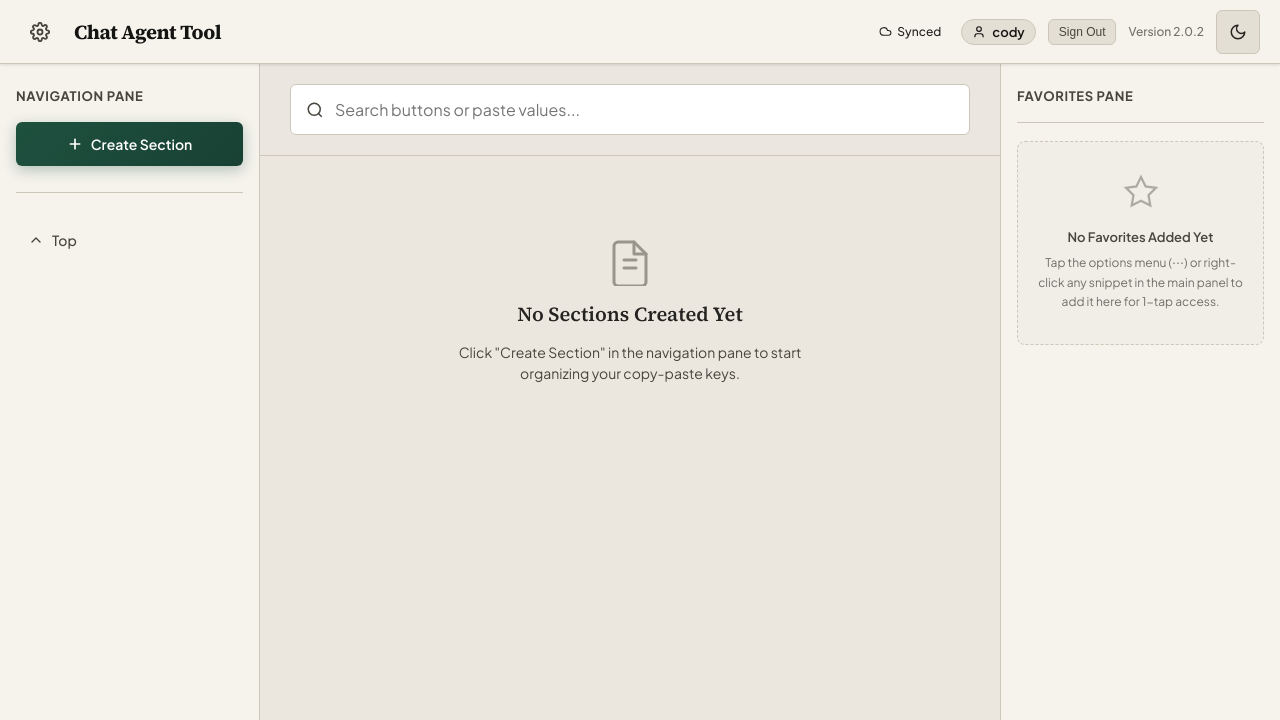
Chat Agent Tool - Integration Tests › copies text and shows toast notification on button click
// Create section
Click the button "Create Section" at (130, 144), box [16,122,243,166]
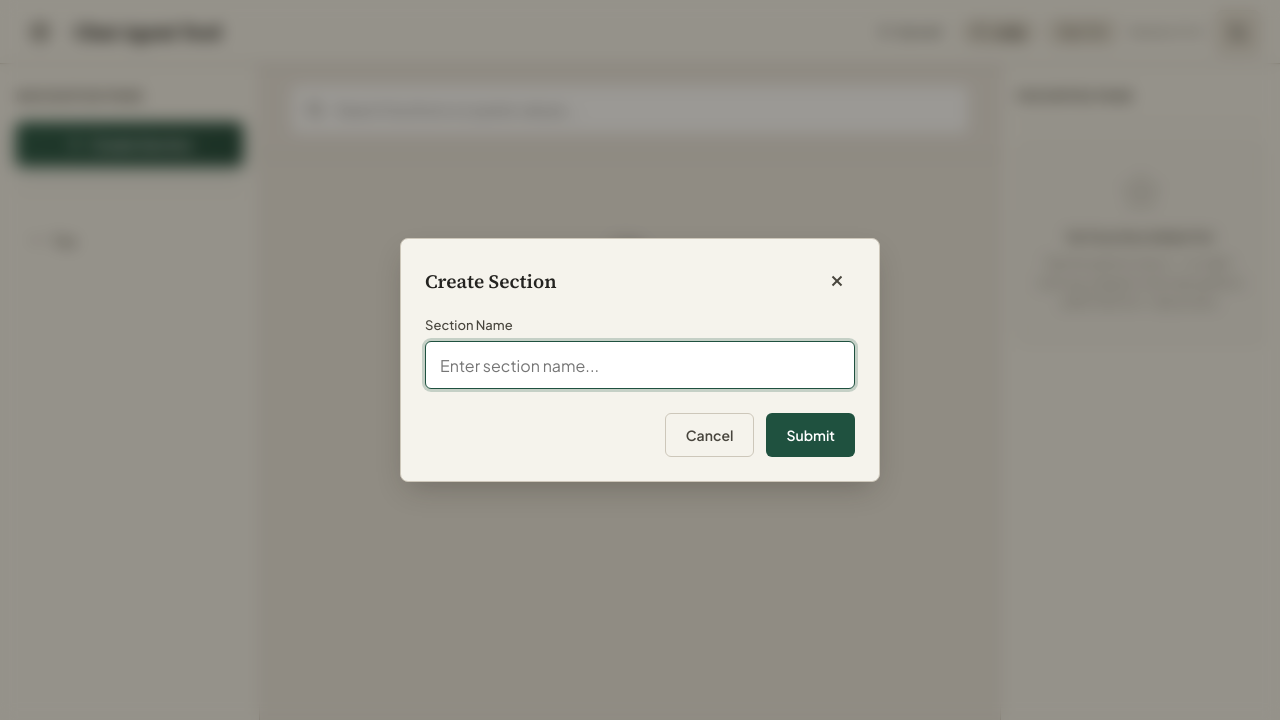
Type "General" into the field labelled "Section Name" at (640, 365), box [425,341,855,389]
Click the button "Submit" at (811, 435), box [766,413,855,457]
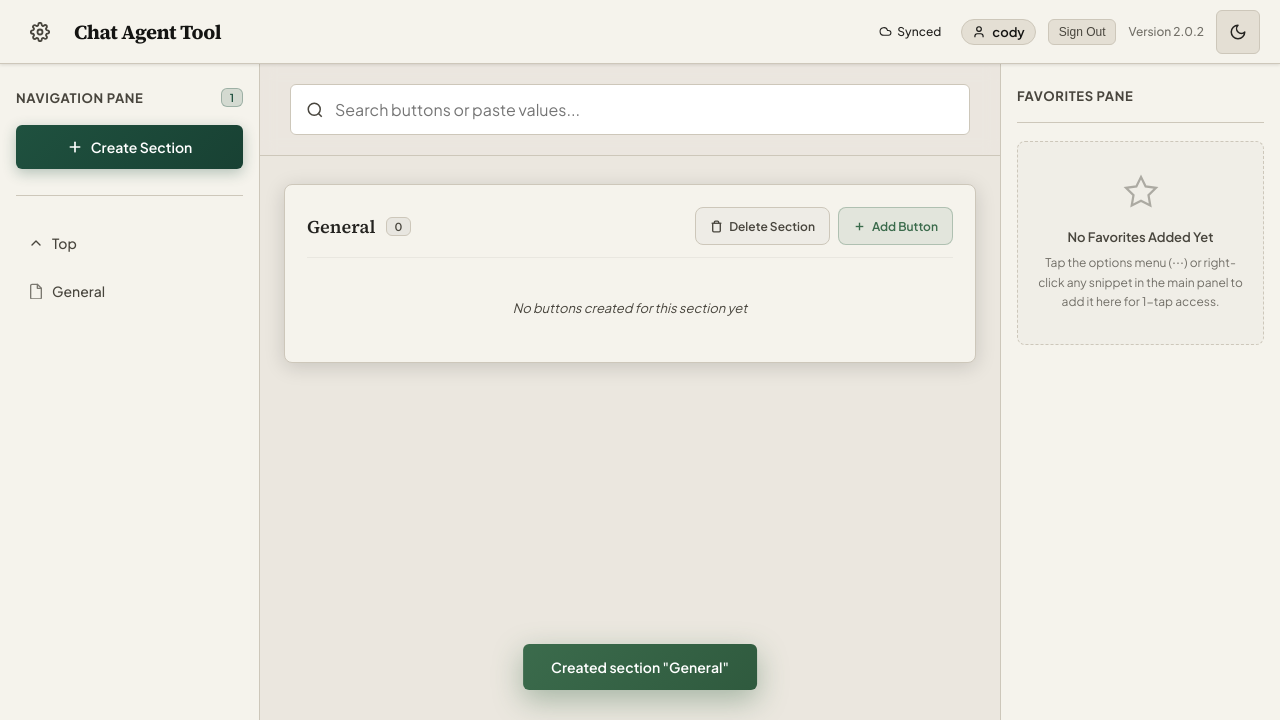
// Create copy button
Click the button "Add Button" at (895, 226), box [838,207,953,245]
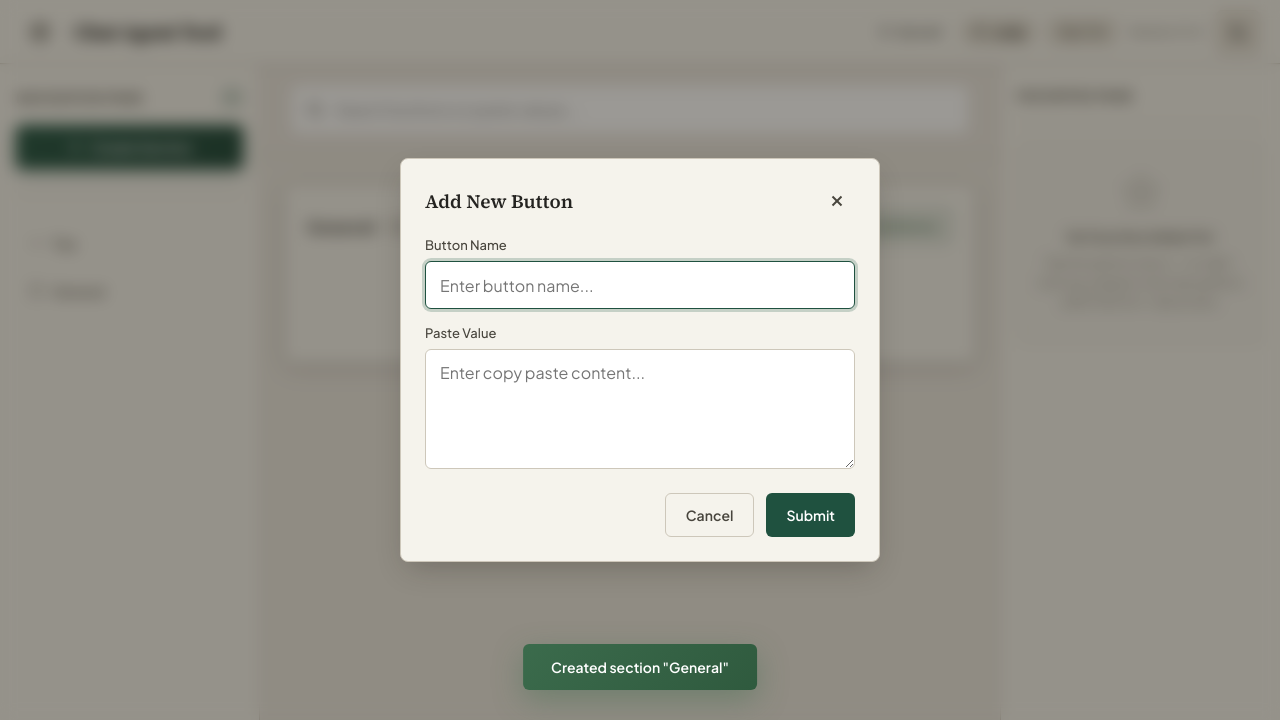
Type "FAQ Link" into the field labelled "Button Name" at (640, 285), box [425,261,855,309]
Type "https://example.com/faq" into the text box labelled "Paste Value" at (640, 409), box [425,349,855,469]
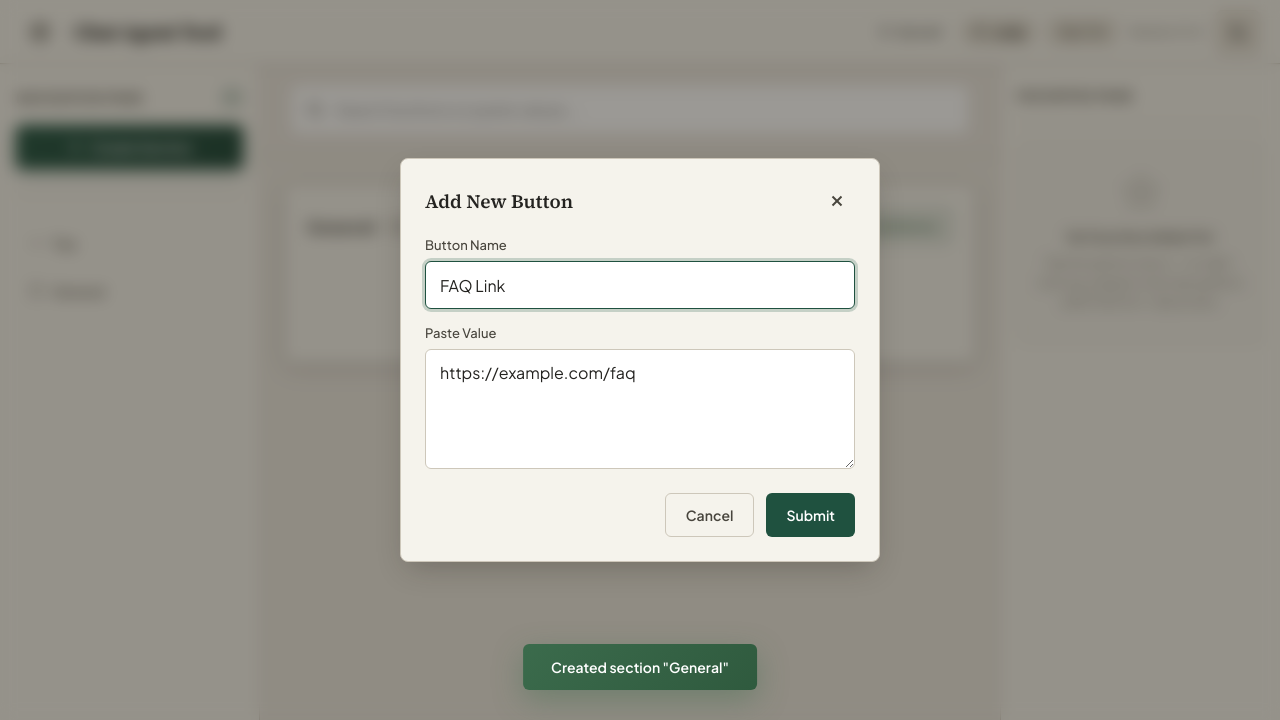
Click the button "Submit" at (811, 515), box [766,493,855,537]
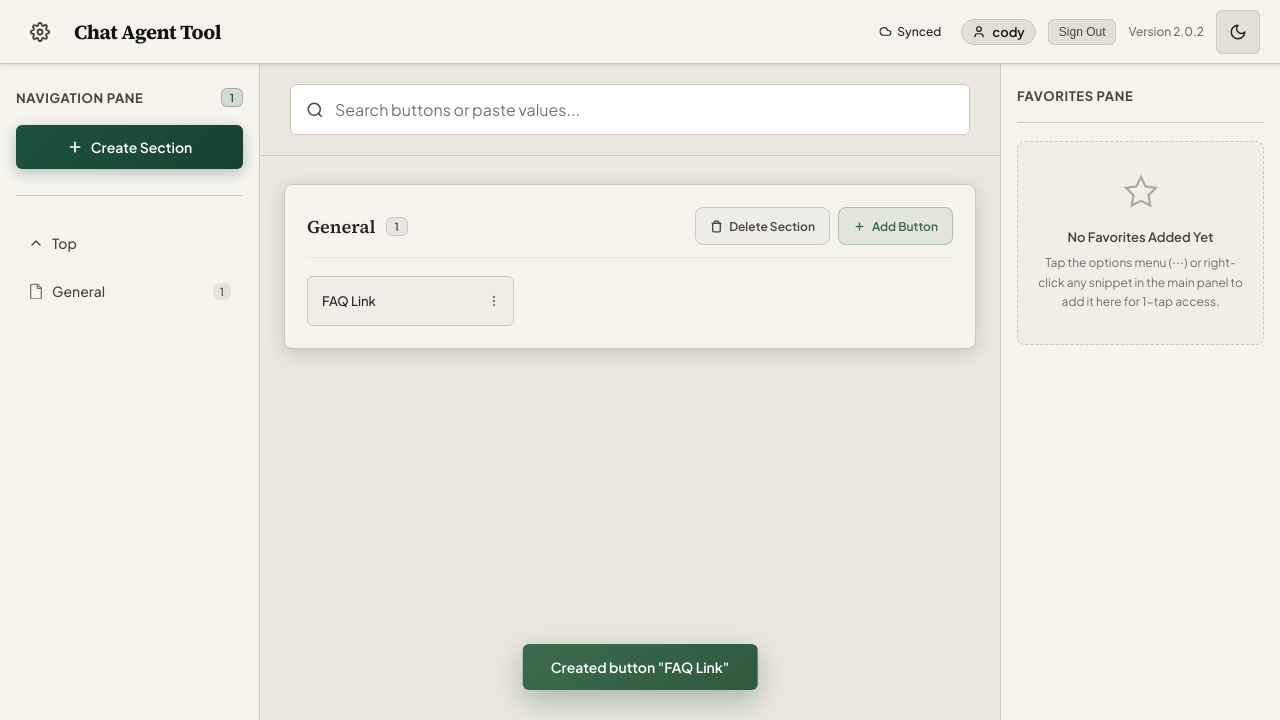
// Wait for button to render and click it
Click the button "FAQ Link" at (392, 301), box [308,277,475,325]
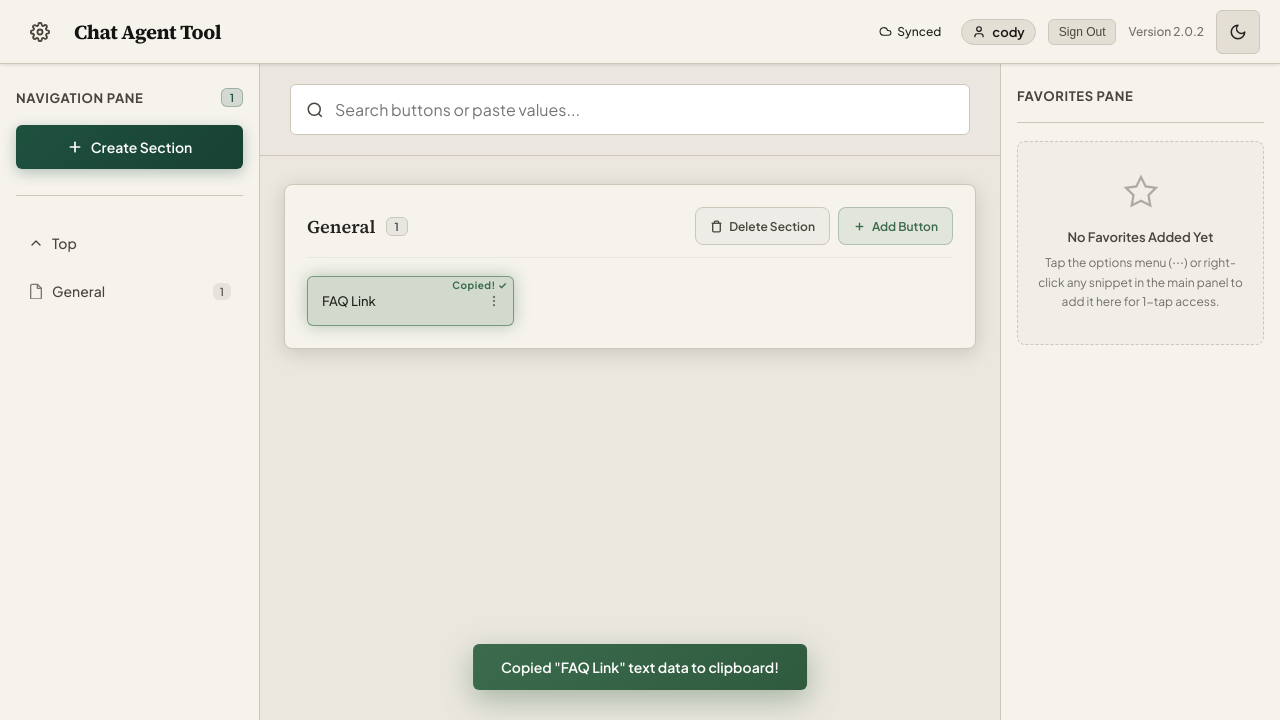
Expected: the text "Copied \"FAQ Link\" text data to clipboard!" is shown, [473,644,807,690]
